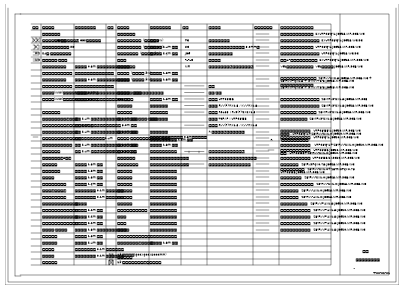room: (344, 10, 394, 280)
wall: (27, 20, 334, 270)
